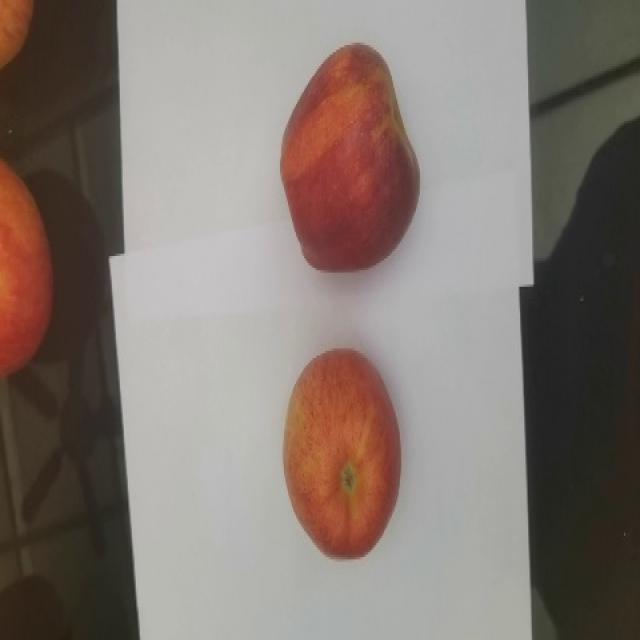Apple: (279, 41, 420, 272), (282, 347, 402, 560), (0, 157, 54, 378)
